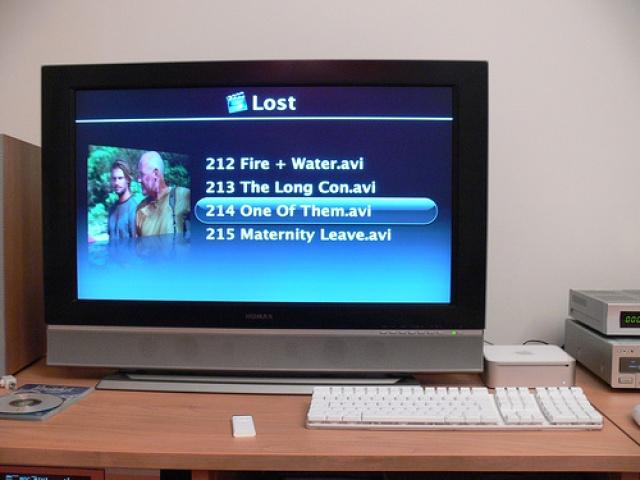AIO PC-Monitor-TV: (38, 57, 488, 396)
